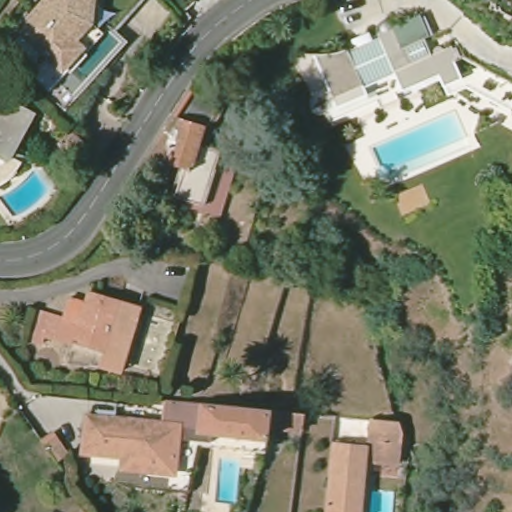pool: (372, 107, 472, 178), (2, 173, 52, 221), (79, 30, 120, 80), (214, 457, 245, 503), (366, 486, 399, 512)
